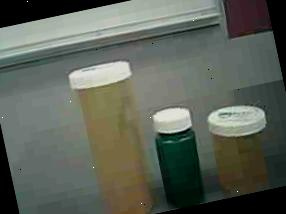Bottle A: (57, 54, 163, 214)
Bottle B: (200, 96, 284, 200)
Bottle C: (146, 100, 213, 212)
